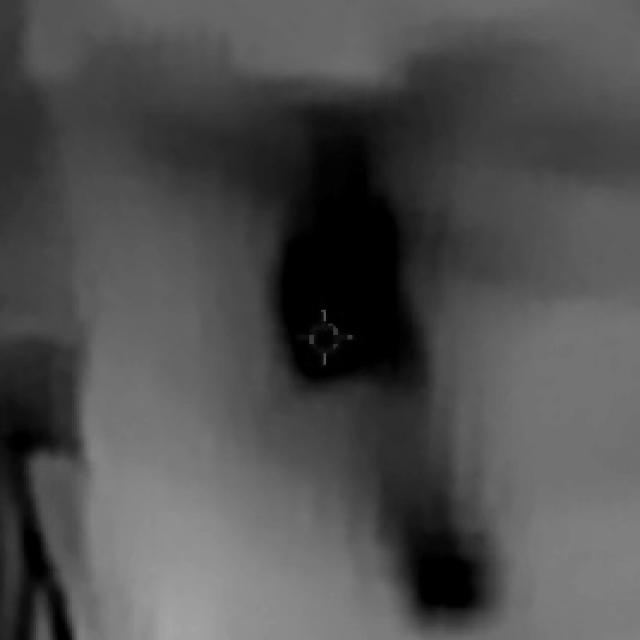Weapon: (29, 22, 585, 640)
